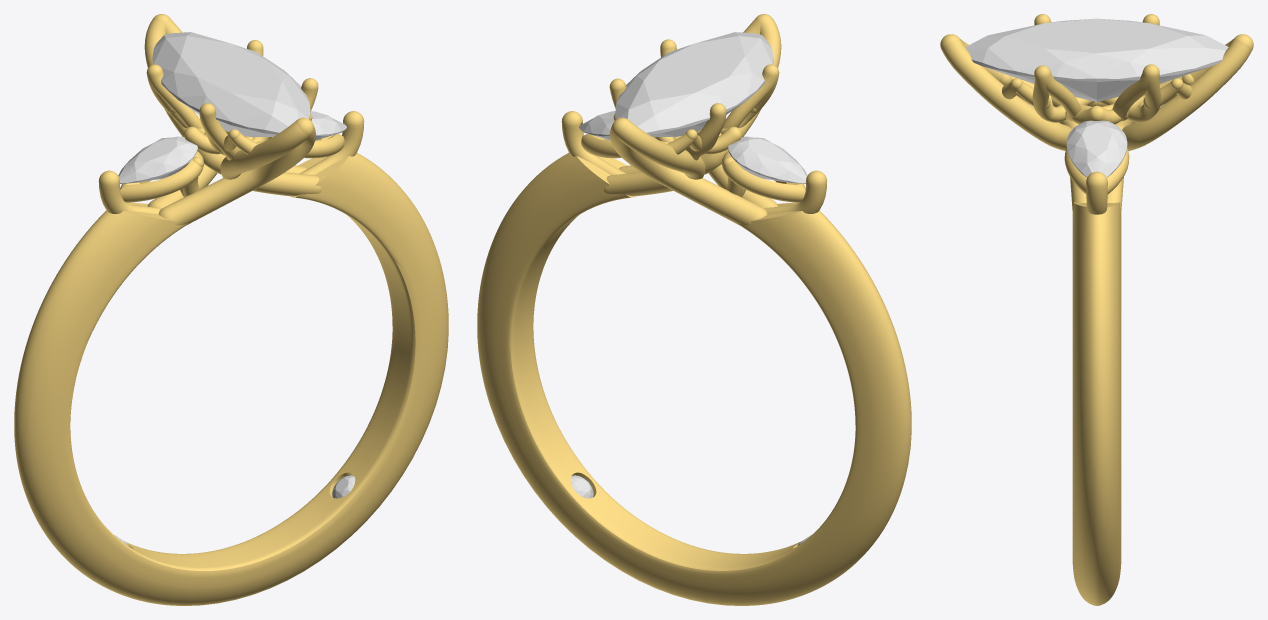
Rendered from ChristianYGv5_blender.glb.
The picture shows the model from 3 angles, left to right: view 1: azimuth 30°, elevation 25°; view 2: azimuth 150°, elevation 25°; view 3: azimuth 270°, elevation 25°; orthographic projection. The views are drawn at different scales.
Visible parts, largest first — view 1: v5 Christian YG for 3d model, Christian dia for 3d model.002, Christian dia for 3d model, Christian dia for 3d model.001; view 2: v5 Christian YG for 3d model, Christian dia for 3d model.002, Christian dia for 3d model, Christian dia for 3d model.001; view 3: v5 Christian YG for 3d model, Christian dia for 3d model.002, Christian dia for 3d model.001.
Part boxes in pixels (x1,y1,x2,y2): v5 Christian YG for 3d model: (14, 14, 448, 605); Christian dia for 3d model.002: (152, 32, 310, 136); Christian dia for 3d model: (118, 136, 197, 183); Christian dia for 3d model.001: (310, 111, 346, 140); v5 Christian YG for 3d model: (477, 14, 911, 605); Christian dia for 3d model.002: (615, 32, 773, 136); Christian dia for 3d model: (728, 136, 807, 183); Christian dia for 3d model.001: (579, 111, 615, 140); v5 Christian YG for 3d model: (940, 14, 1253, 605); Christian dia for 3d model.002: (965, 18, 1228, 102); Christian dia for 3d model.001: (1066, 120, 1127, 177).
Size of the model in its own units: 21.13 by 24.91 by 12.92.
